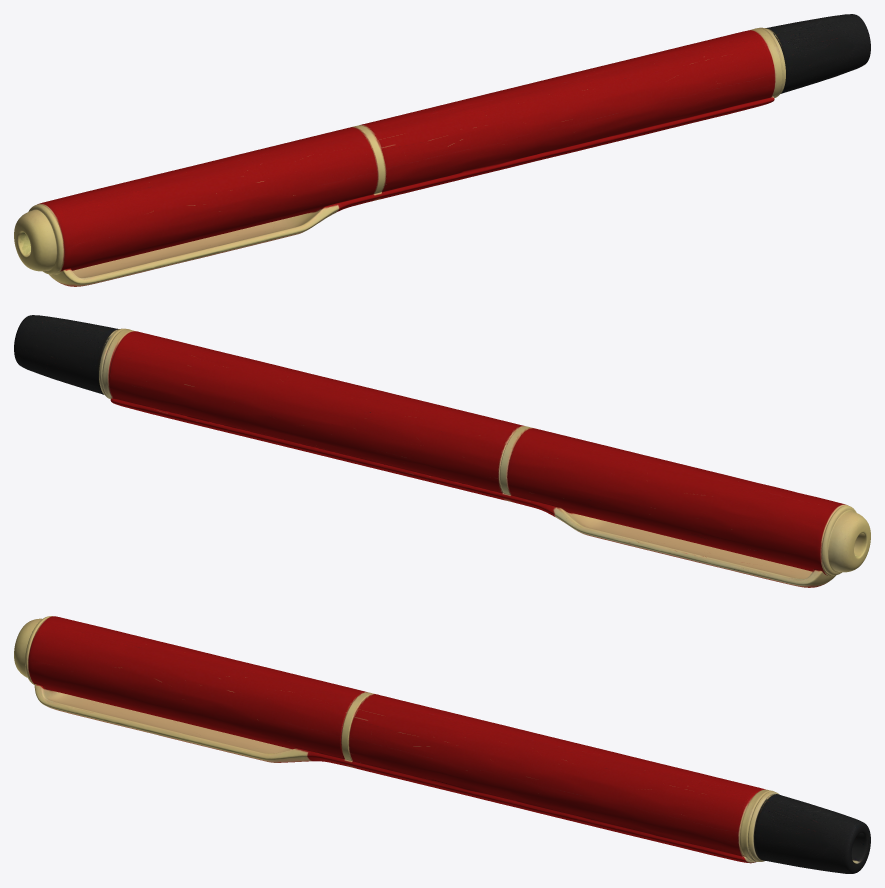
Rendered from pen-red.glb.
The picture shows the model from 3 angles, top to bottom: view 1: azimuth 30°, elevation 25°; view 2: azimuth 150°, elevation 25°; view 3: azimuth 330°, elevation 25°; orthographic projection.
Bounding box in the file's own units: 1.9 × 0.179 × 0.1549.
Materials: 1 (1 with a texture image).
